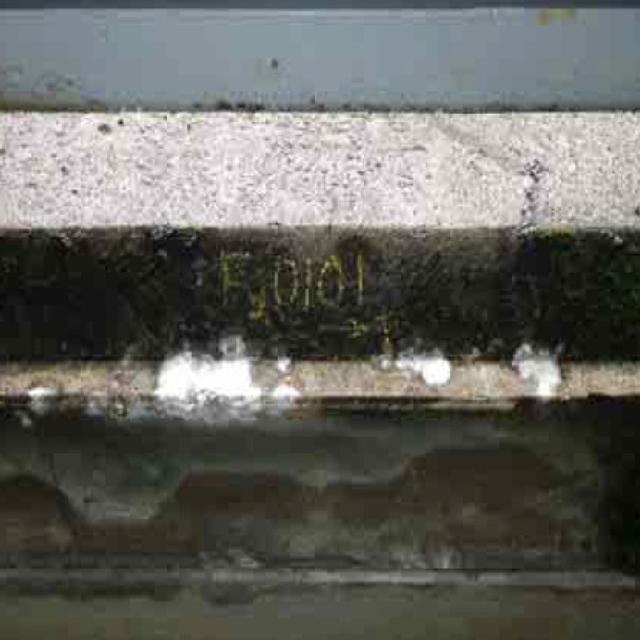freelime: (392, 339, 582, 407), (146, 346, 280, 426)
